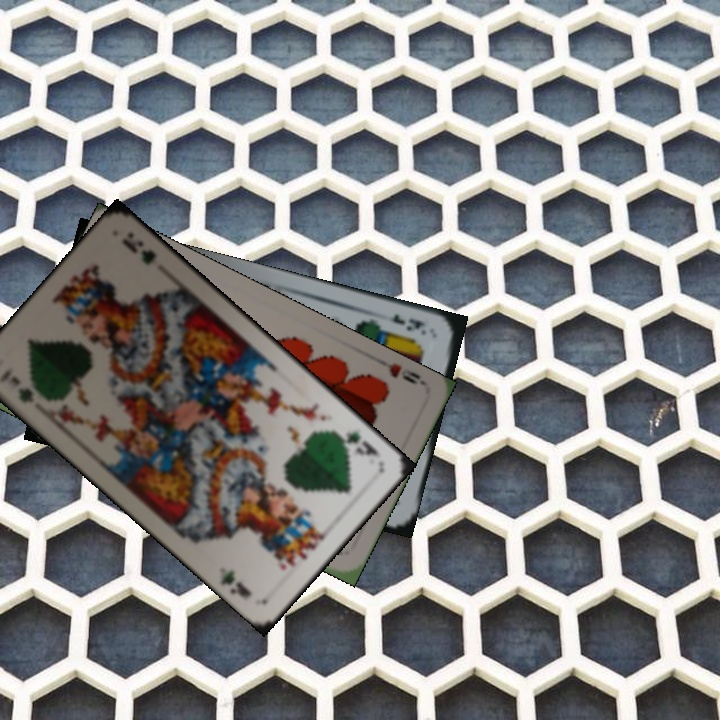EK: (388, 310, 429, 338)
GK: (331, 427, 382, 459), (7, 371, 37, 406)
H9: (372, 354, 427, 388)
